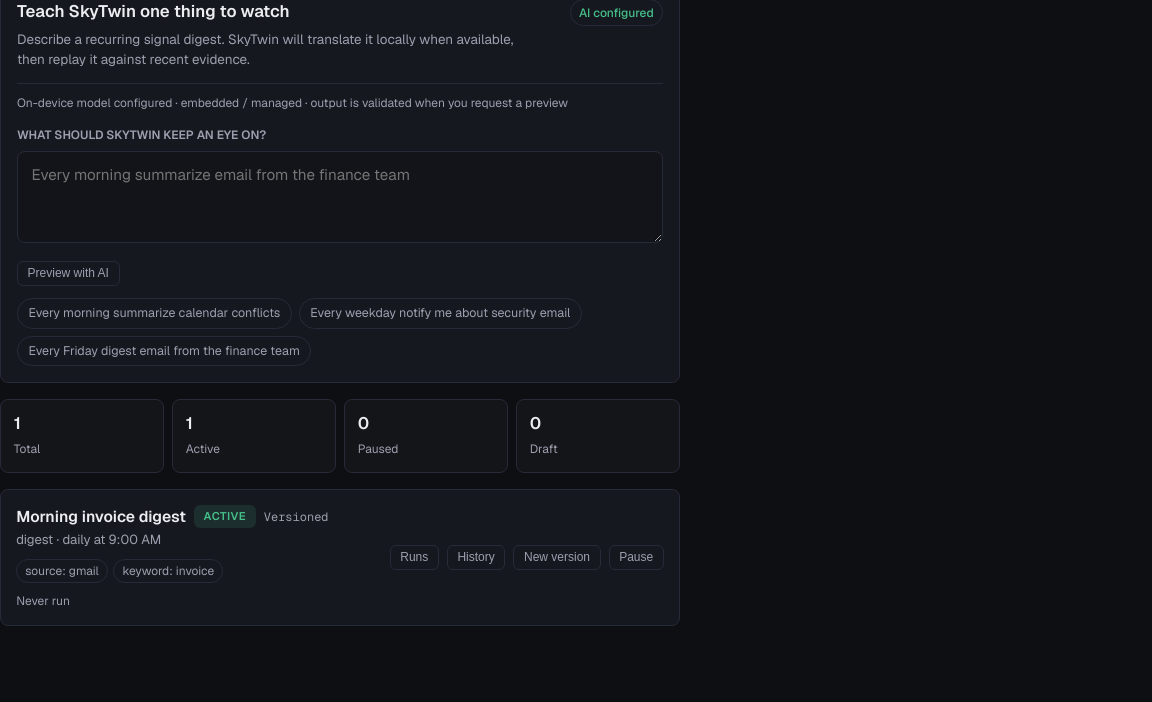
it: adaptive Watches authoring › shows immutable history and rolls back only a previously active version with CAS
Click the button "History" at {"x": 476, "y": 557}, box [447,545,505,570]
(page scrolled)
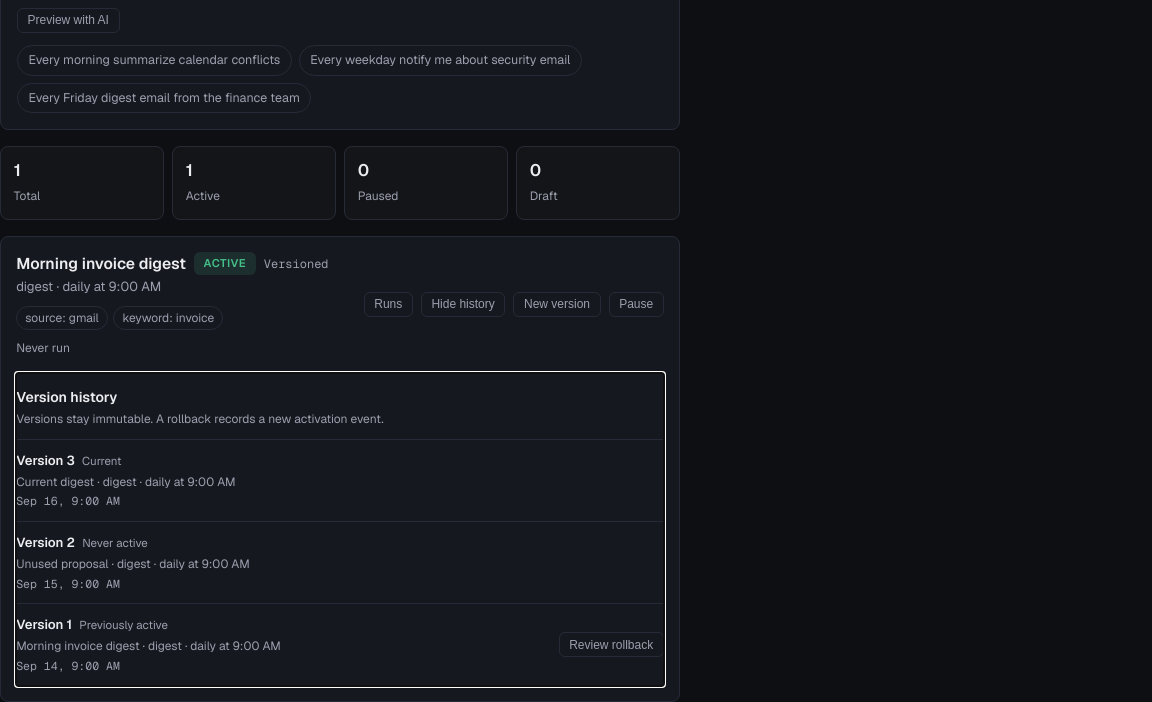
Click the button "Review rollback" at {"x": 611, "y": 645}, box [559,632,664,657]
(page scrolled)
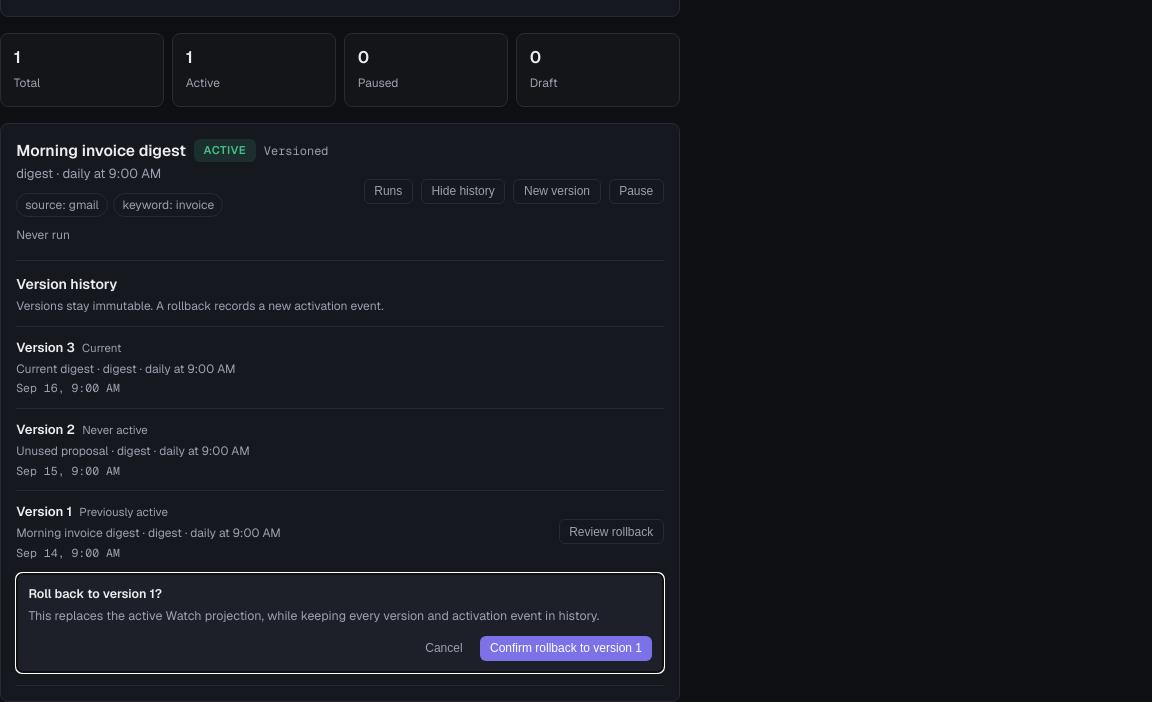
Click the button "Confirm rollback to version 1" at {"x": 566, "y": 648}, box [480,636,652,661]
(page scrolled)
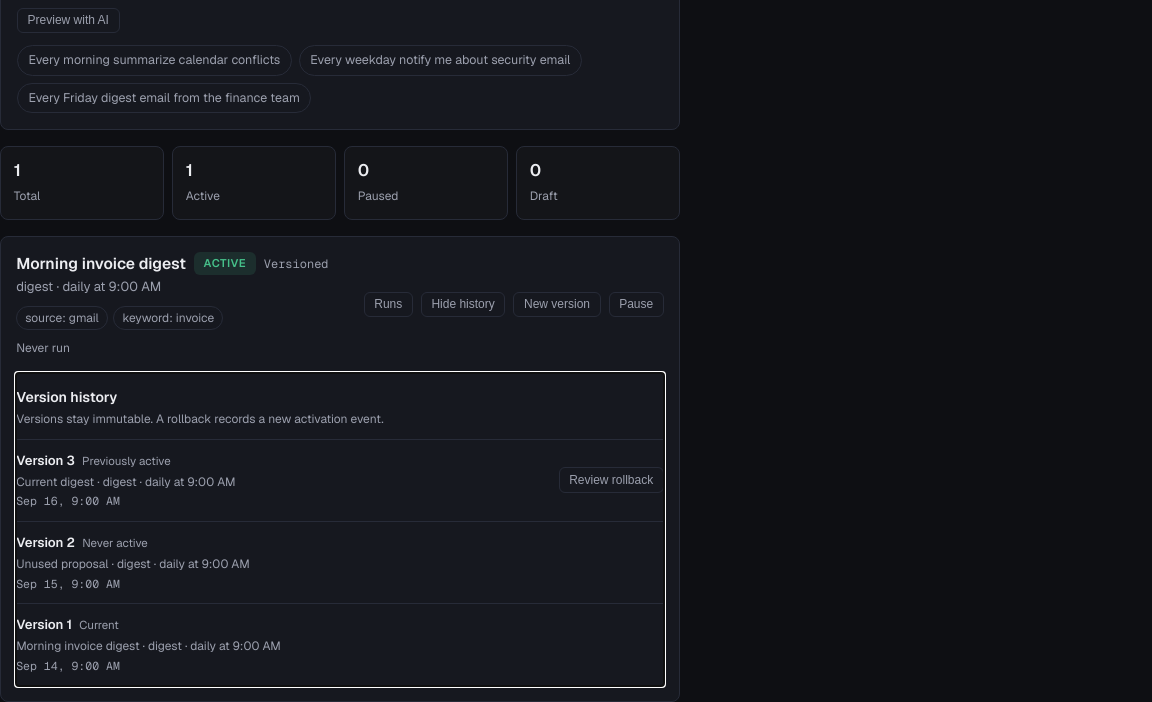
Expected: the list item with class "watch-version-item" shows "Current", [79,617,119,632]
